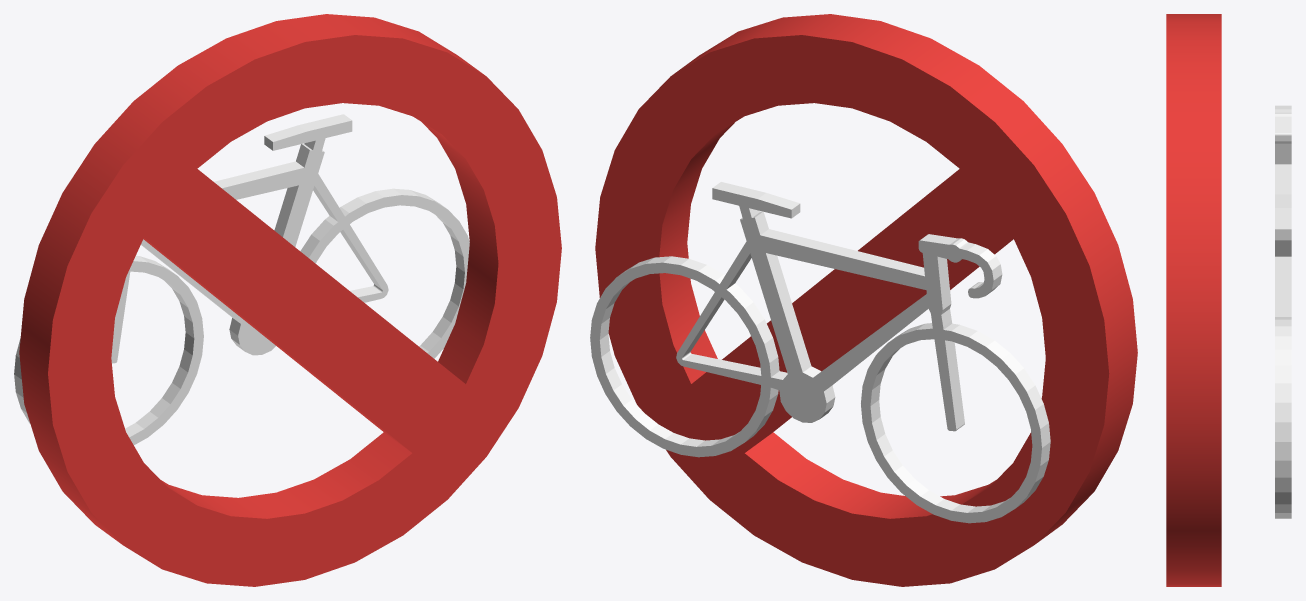
The model's file is no_bicycles.gltf.
The picture shows the model from 3 angles, left to right: view 1: azimuth 30°, elevation 25°; view 2: azimuth 150°, elevation 25°; view 3: azimuth 270°, elevation 25°; orthographic projection. The views are drawn at different scales.
Visible parts, largest first — view 1: Circle.2621, Circle.2620; view 2: Circle.2621, Circle.2620; view 3: Circle.2621, Circle.2620.
Boxes of the visible parts, left/top/right/bottom form: Circle.2621: left=19, top=14, right=561, bottom=586; Circle.2620: left=14, top=114, right=469, bottom=444; Circle.2621: left=595, top=14, right=1137, bottom=586; Circle.2620: left=590, top=182, right=1050, bottom=523; Circle.2621: left=1166, top=14, right=1221, bottom=586; Circle.2620: left=1275, top=105, right=1291, bottom=518.
Bounding box in the file's own units: 1.92 × 1.92 × 0.4205.
Materials: 1 (1 with a texture image).
